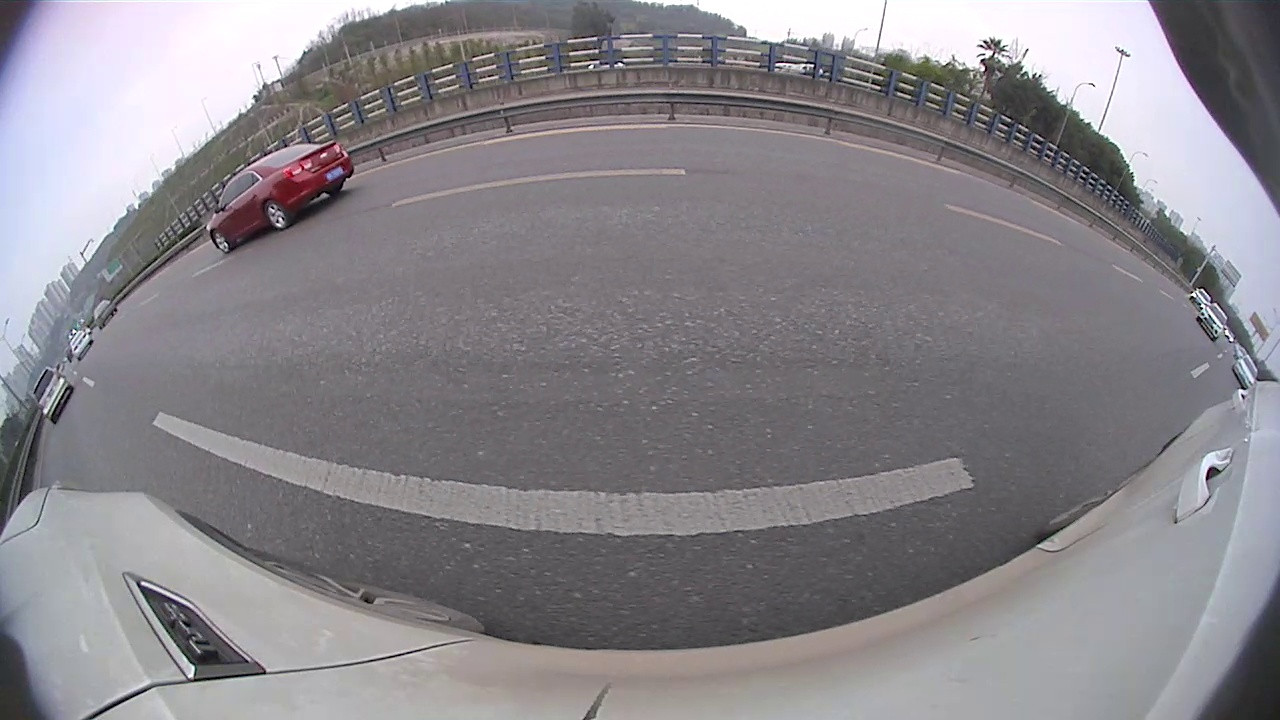car: (207, 139, 355, 255), (30, 365, 75, 425), (1196, 301, 1229, 344), (1231, 353, 1259, 390), (92, 298, 119, 331), (69, 328, 94, 361), (1189, 286, 1213, 307)
front: (212, 230, 229, 253)
rear: (264, 201, 289, 229)
